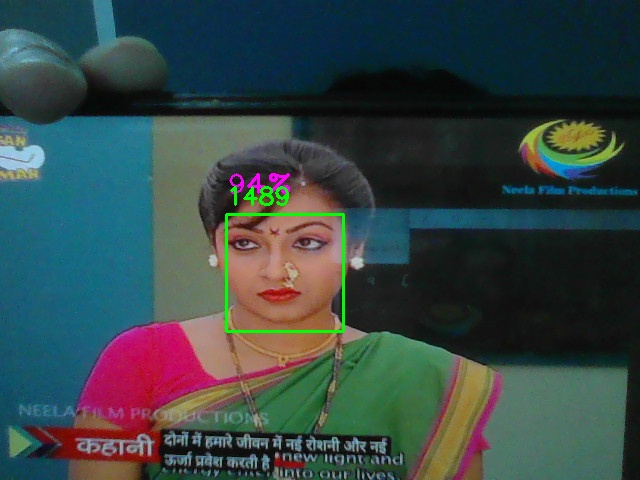fake: (226, 214, 344, 332)
